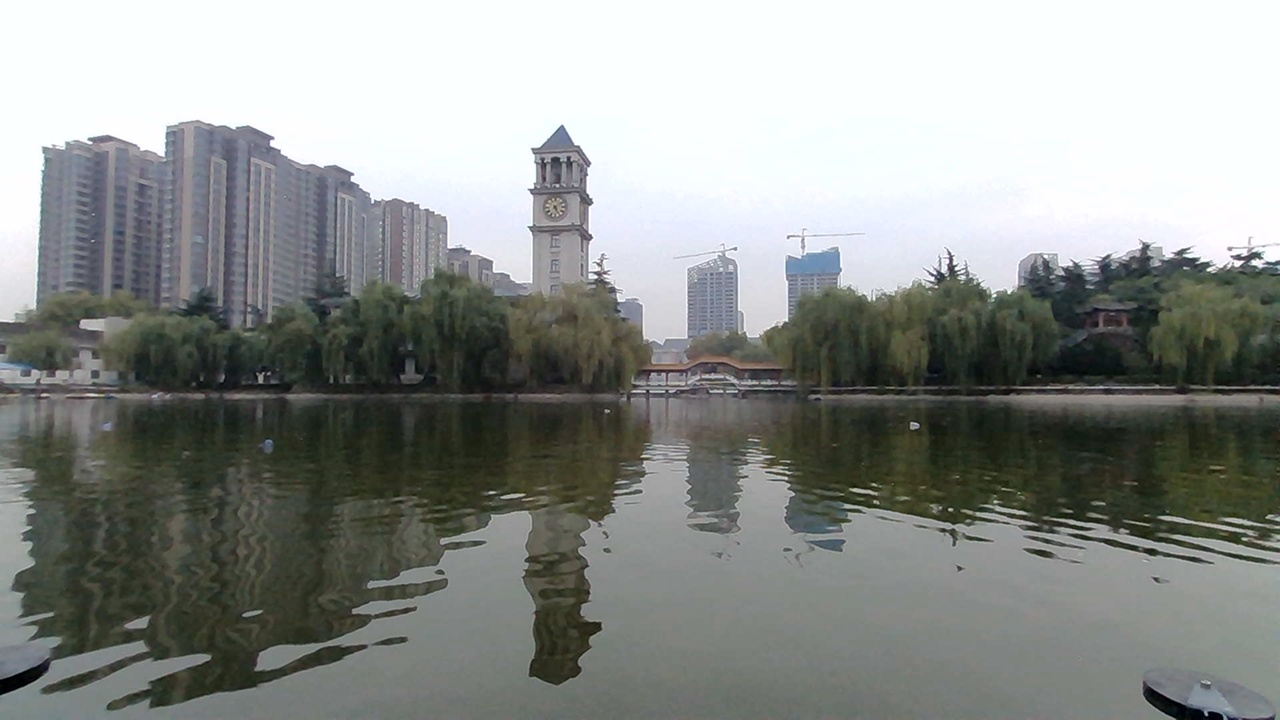bottle: (895, 412, 933, 433), (253, 435, 287, 457), (98, 407, 119, 435)
